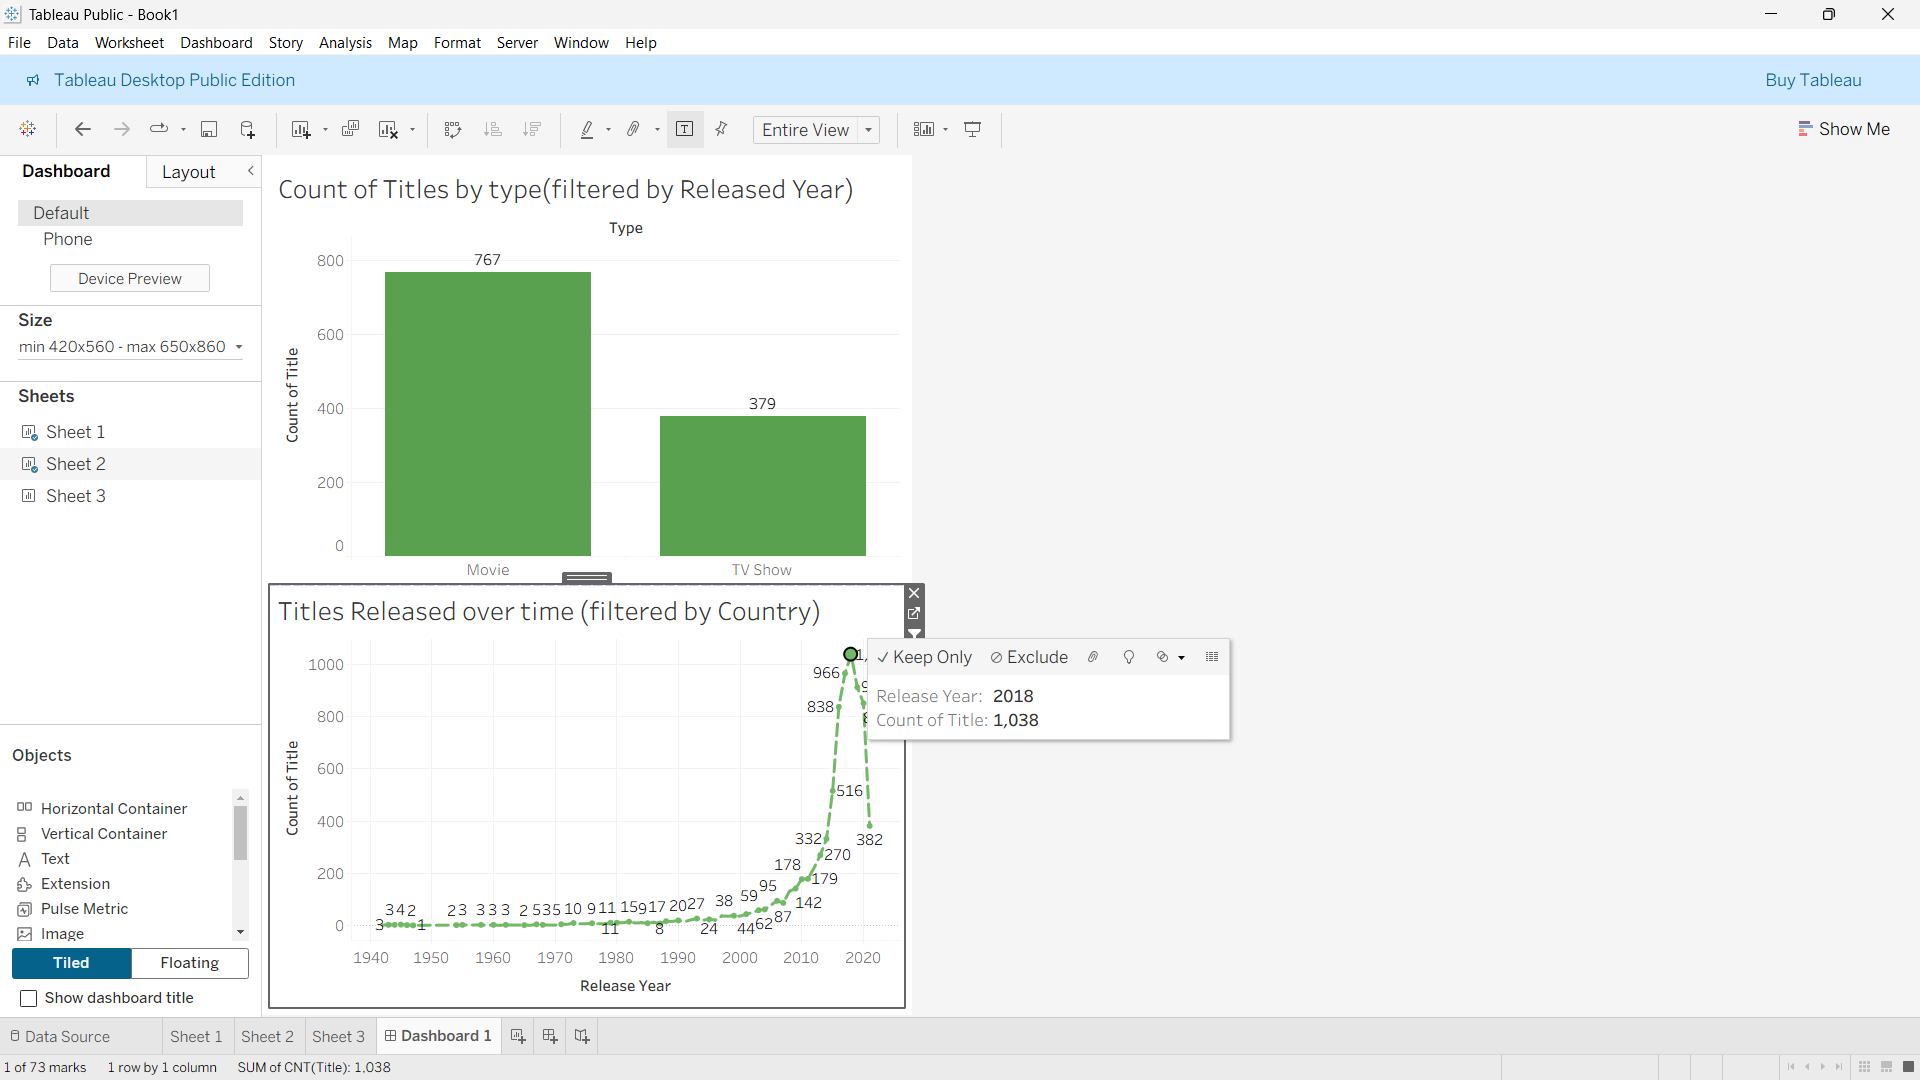

This screenshot's page, from the dashboard's own definition file:
{"tool":"tableau","page":{"name":"Dashboard 1","canvas":[650,860],"ordinal":0},"visuals":[{"type":"worksheet","title":"Sheet 1","mark":"Automatic","rows":["title"],"cols":["type"],"box":[8,8,634,422]},{"type":"worksheet","title":"Sheet 2","mark":"Automatic","rows":["title"],"cols":["release_year"],"box":[8,430,634,422]}]}

Visuals, with their boxes on the page's 650x860 design canvas (x1, y1, x2, y2). These are canvas units, not pixel positions in the 1920x1080 screenshot, which may show the page scaled, cropped or inside an application window:
"Sheet 1" worksheet: 8, 8, 642, 430
"Sheet 2" worksheet: 8, 430, 642, 852
